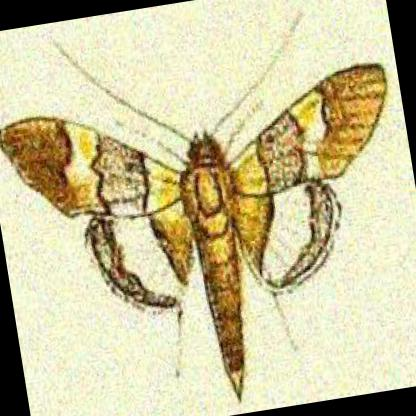Leaf Webber: (0, 59, 387, 405)
